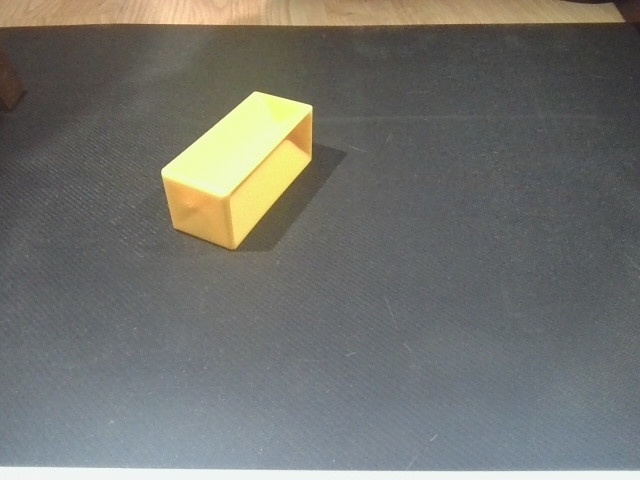YellowSample: (158, 89, 315, 255)
